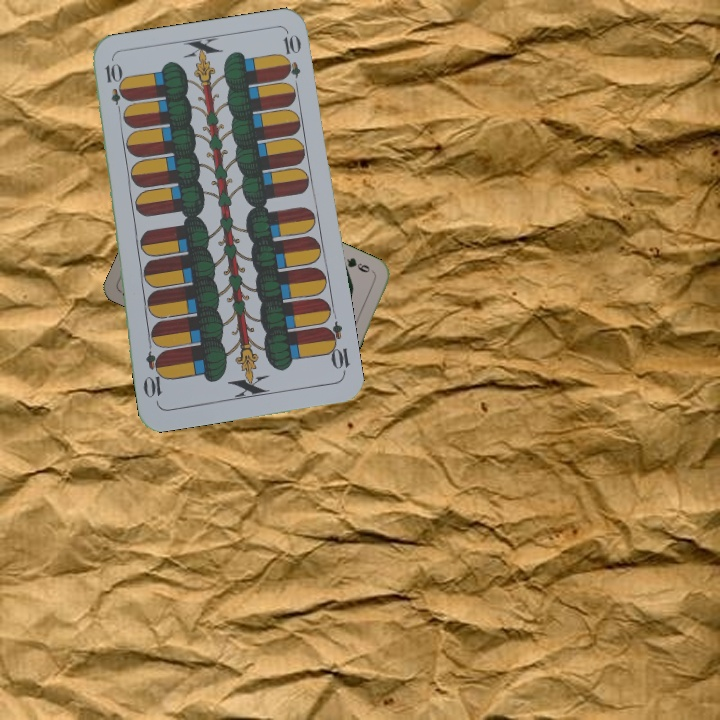E10: (320, 318, 352, 377), (101, 59, 126, 118)
G9: (336, 253, 377, 276)
